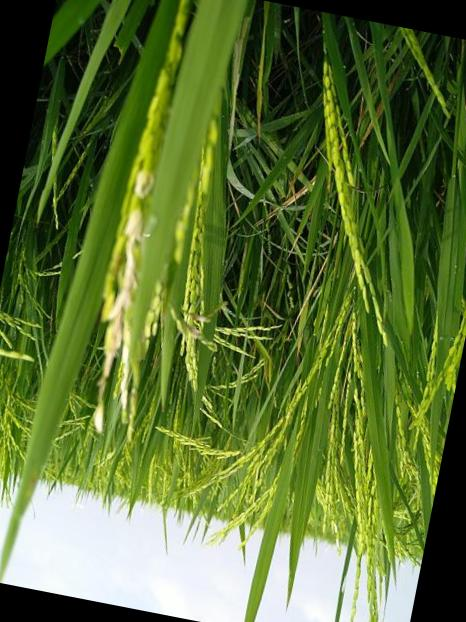Panicle Blight: (93, 207, 142, 432), (120, 344, 129, 422), (134, 169, 155, 198), (190, 314, 211, 340)
